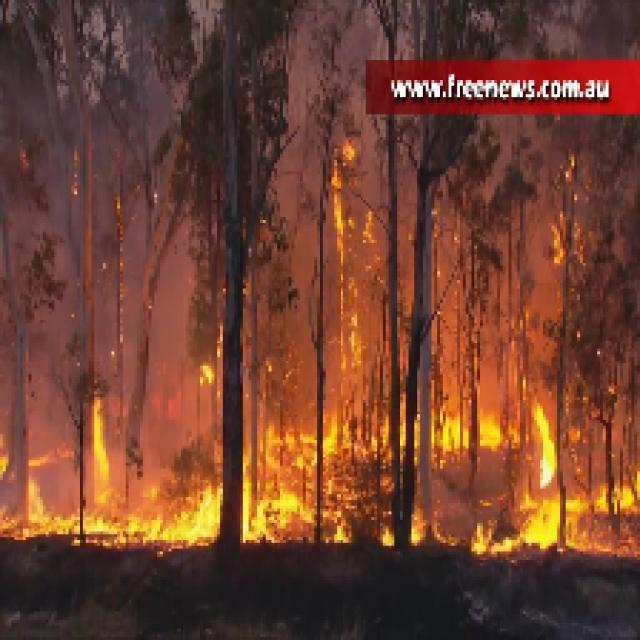Fire: (3, 397, 220, 543), (471, 400, 640, 560), (317, 137, 380, 400), (242, 411, 348, 543)
Smoke: (3, 2, 186, 388)
